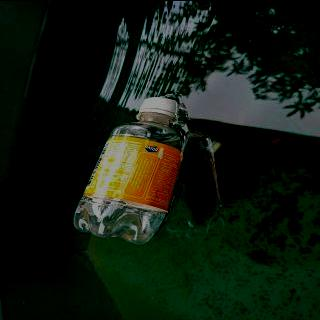bottle: (71, 94, 184, 246)
